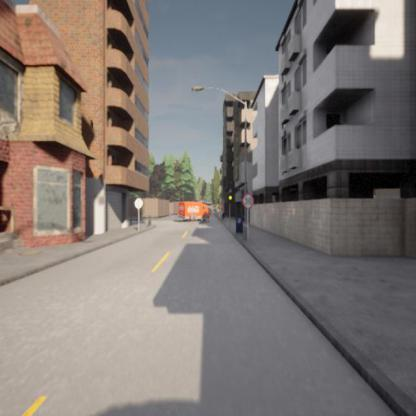traffic_sign_30: (242, 193, 254, 209)
vehicle: (178, 201, 209, 223)
